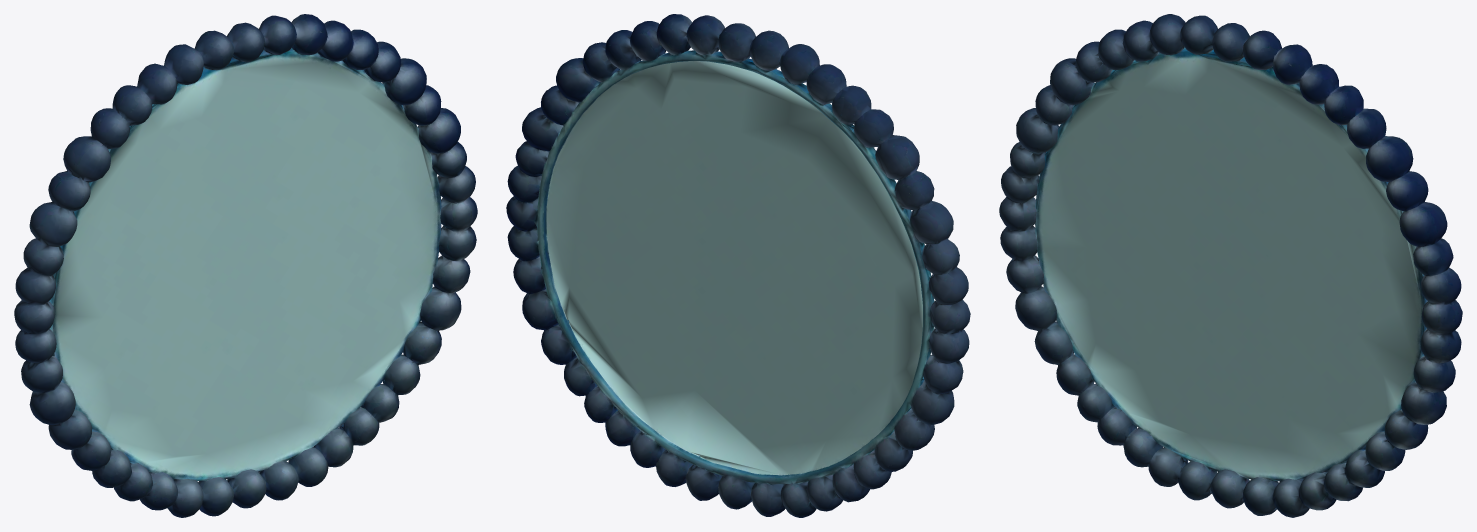
3 views of the same model, side by side, from view 1: azimuth 30°, elevation 25°; view 2: azimuth 150°, elevation 25°; view 3: azimuth 330°, elevation 25° (orthographic).
Visible parts, largest first — view 1: geometry_0; view 2: geometry_0; view 3: geometry_0.
Boxes of the visible parts, x1=… form: geometry_0: x1=14, y1=14, x2=477, y2=517; geometry_0: x1=506, y1=14, x2=970, y2=517; geometry_0: x1=999, y1=14, x2=1462, y2=517.
Size of the model in its own units: 1 by 1 by 0.069.
1 material, 1 textured.
